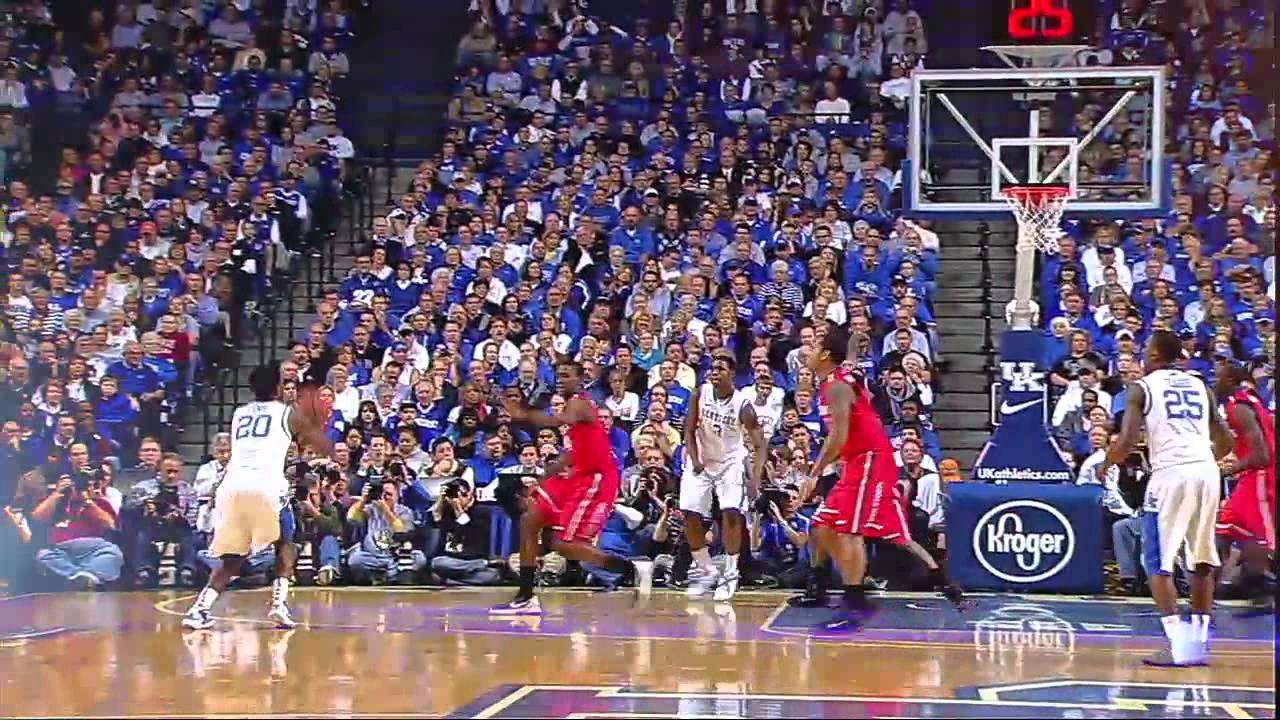basketball: (295, 391, 331, 427)
basketball player: (1098, 326, 1234, 684), (483, 364, 661, 624), (176, 358, 300, 655), (793, 329, 902, 645), (679, 353, 769, 601)
